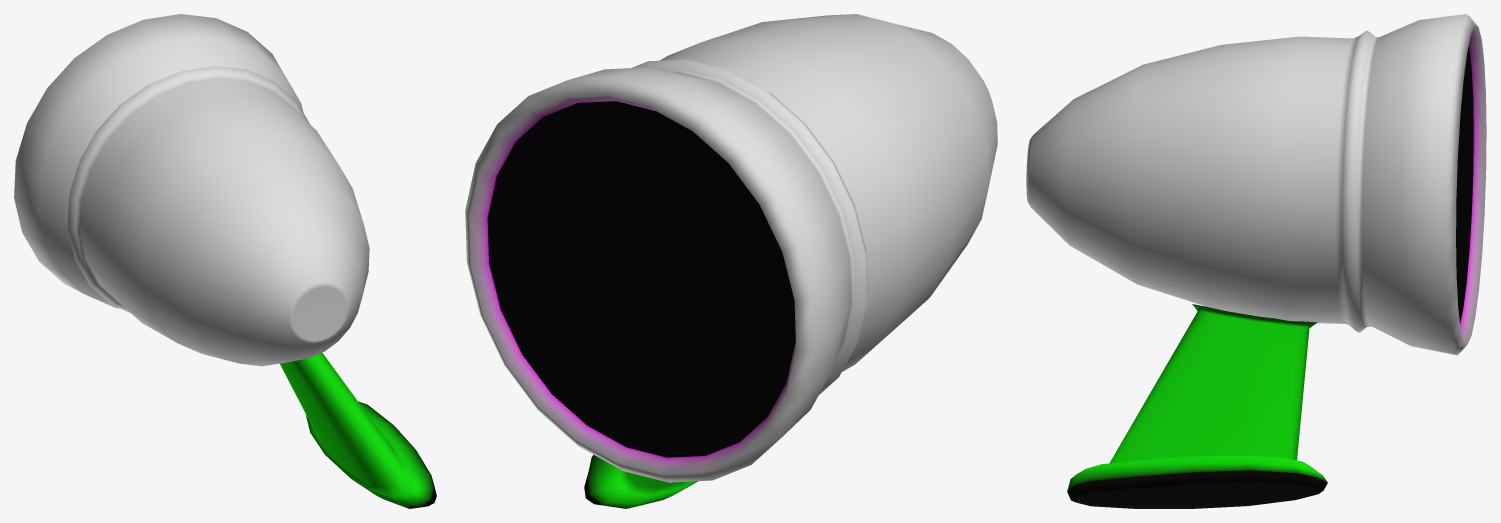
File: Car_Buick_GrandNational_1987_MirrorR_SetXT.fbx
3 views of the same model, side by side, from view 1: azimuth 30°, elevation 25°; view 2: azimuth 150°, elevation 25°; view 3: azimuth 270°, elevation 25° (orthographic). The views are drawn at different scales.
Visible parts, largest first — view 1: MirrorR 6; view 2: MirrorR 6; view 3: MirrorR 6.
Part boxes in pixels (<box>): MirrorR 6: <box>14,14,436,508</box>; MirrorR 6: <box>465,14,997,508</box>; MirrorR 6: <box>1026,14,1486,508</box>.
Size of the model in its own units: 0.1227 by 0.1725 by 0.1662.
